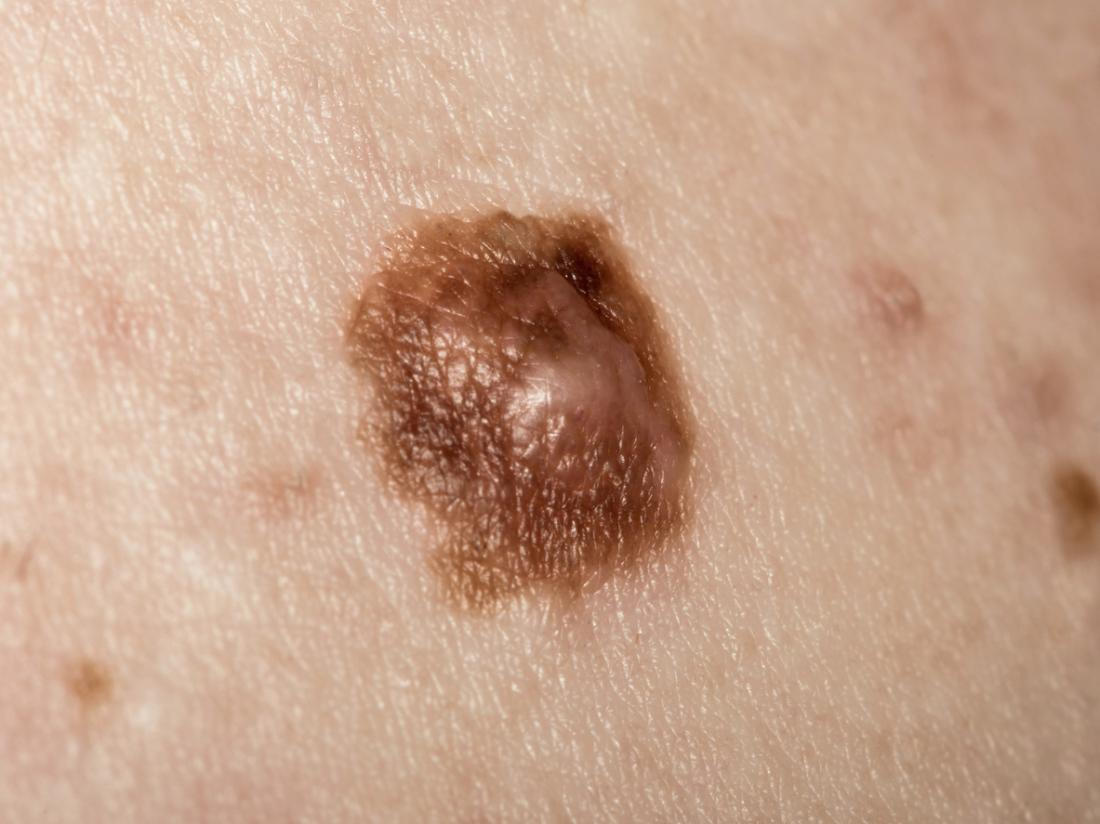melanoma: (248, 114, 848, 701)
